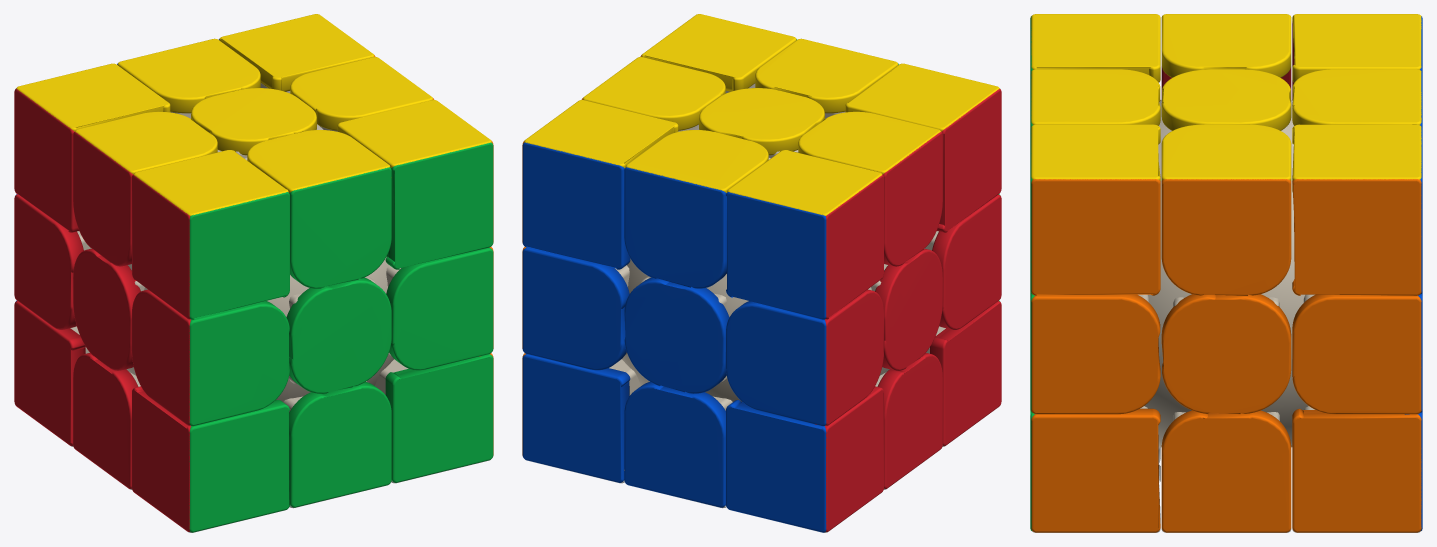
3 views of the same model, side by side, from view 1: azimuth 30°, elevation 25°; view 2: azimuth 150°, elevation 25°; view 3: azimuth 270°, elevation 25° (orthographic). The views are drawn at different scales.
Parts seen in each view (by area): view 1: piece_-1,1,1, piece_-1,-1,1, piece_1,1,1, piece_-1,0,1, piece_0,1,1, piece_-1,1,-1, piece_1,-1,1, piece_-1,1,0, piece_1,0,1, piece_0,-1,1, piece_0,0,1, piece_-1,-1,-1 (+8 smaller); view 2: piece_-1,1,-1, piece_-1,-1,-1, piece_1,1,-1, piece_-1,0,-1, piece_0,1,-1, piece_-1,1,1, piece_1,-1,-1, piece_-1,1,0, piece_1,0,-1, piece_0,-1,-1, piece_0,0,-1, piece_-1,-1,1 (+8 smaller); view 3: piece_1,1,1, piece_1,1,-1, piece_1,1,0, piece_1,-1,-1, piece_1,-1,1, piece_1,-1,0, piece_1,0,1, piece_1,0,-1, piece_1,0,0, piece_-1,1,0, piece_-1,1,-1, piece_-1,1,1 (+4 smaller).
Part boxes in pixels (x1,y1,x2,y2): piece_-1,1,1: (132,150,289,319); piece_-1,-1,1: (132,386,289,532); piece_1,1,1: (337,100,493,269); piece_-1,0,1: (131,289,289,426); piece_0,1,1: (247,130,391,288); piece_-1,1,-1: (14,63,170,232); piece_1,-1,1: (375,353,493,483); piece_-1,1,0: (73,111,217,266); piece_1,0,1: (386,247,493,370); piece_0,-1,1: (283,381,391,508); piece_0,0,1: (286,277,391,393); piece_-1,-1,-1: (14,300,89,446); piece_-1,1,-1: (726,150,883,319); piece_-1,-1,-1: (726,386,883,532); piece_1,1,-1: (522,100,678,269); piece_-1,0,-1: (725,289,883,426); piece_0,1,-1: (624,130,768,288); piece_-1,1,1: (845,63,1001,232); piece_1,-1,-1: (522,353,640,483); piece_-1,1,0: (798,111,942,266); piece_1,0,-1: (522,247,629,370); piece_0,-1,-1: (624,381,732,508); piece_0,0,-1: (624,277,729,393); piece_-1,-1,1: (926,300,1001,446); piece_1,1,1: (1030,124,1160,295); piece_1,1,-1: (1292,124,1422,295); piece_1,1,0: (1161,124,1291,295); piece_1,-1,-1: (1292,406,1422,532); piece_1,-1,1: (1030,406,1160,532); piece_1,-1,0: (1161,410,1291,532); piece_1,0,1: (1030,292,1160,414); piece_1,0,-1: (1292,292,1422,414); piece_1,0,0: (1161,294,1291,414); piece_-1,1,0: (1161,14,1291,98); piece_-1,1,-1: (1292,14,1422,99); piece_-1,1,1: (1030,14,1160,82).
Bounding box in the file's own units: 2 × 2 × 2.
